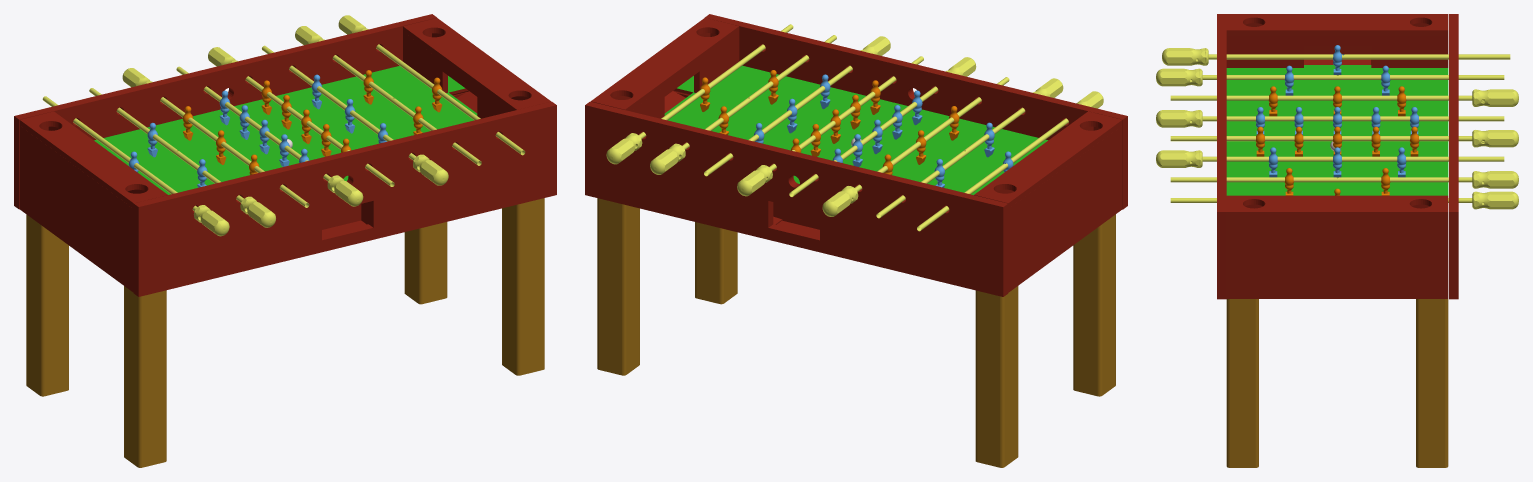
Rendered from kicker.dae.
3 renders of one model, left to right at view 1: azimuth 30°, elevation 25°; view 2: azimuth 150°, elevation 25°; view 3: azimuth 270°, elevation 25°, orthographic. The views are drawn at different scales.
Parts seen in each view (by area): view 1: Kasten, Beine, Feld, R1, R2, R4, R3, L1, L2, L4, L3; view 2: Kasten, Beine, Feld, L1, L2, L4, L3, R2, R1, R4, R3; view 3: Kasten, Feld, Beine, R1, L2, L4, R4, R3, L3, R2, L1.
Boxes of the visible parts, x1,y1,x2,y2 form: Kasten: (14, 14, 556, 296); Beine: (26, 198, 544, 467); Feld: (94, 66, 477, 194); R1: (42, 96, 229, 236); R2: (89, 88, 275, 227); R4: (262, 45, 448, 185); R3: (176, 66, 363, 206); L1: (338, 15, 525, 155); L2: (295, 26, 481, 165); L4: (122, 68, 309, 207); L3: (208, 47, 394, 186); Kasten: (585, 14, 1127, 296); Beine: (597, 198, 1115, 467); Feld: (664, 65, 1047, 194); L1: (606, 24, 793, 164); L2: (650, 35, 836, 174); L4: (822, 77, 1009, 216); L3: (737, 56, 923, 196); R2: (876, 78, 1063, 218); R1: (917, 91, 1103, 231); R4: (704, 36, 890, 176); R3: (789, 57, 976, 196); Kasten: (1217, 14, 1458, 299); Feld: (1226, 65, 1448, 195); Beine: (1226, 299, 1448, 467); R1: (1162, 48, 1510, 65); L2: (1170, 171, 1518, 188); L4: (1170, 89, 1518, 106); R4: (1156, 150, 1504, 167); R3: (1156, 110, 1504, 127); L3: (1170, 130, 1518, 147); R2: (1156, 68, 1504, 86); L1: (1170, 191, 1518, 209).
Bounding box in the file's own units: 1.46 × 1.13 × 0.8891.
